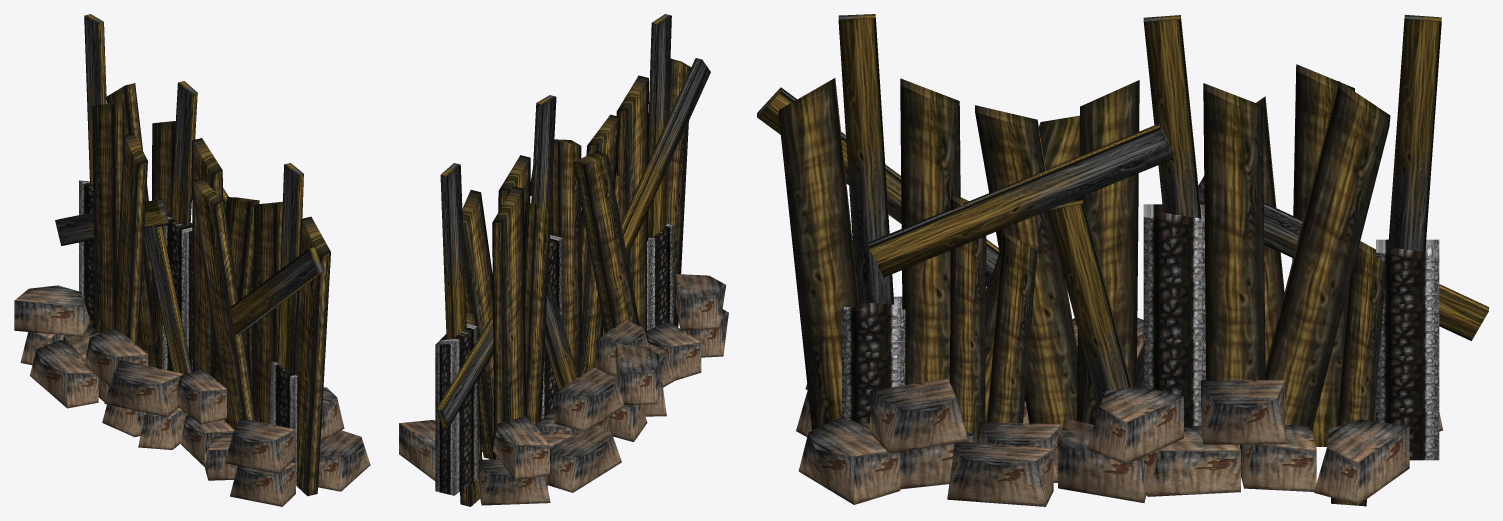
File: CB_WOOD_BARACADE02.fbx
The picture shows the model from 3 angles, left to right: view 1: azimuth 30°, elevation 25°; view 2: azimuth 150°, elevation 25°; view 3: azimuth 270°, elevation 25°; orthographic projection. The views are drawn at different scales.
Visible parts, largest first — view 1: CB_WOOD_BARACADE02; view 2: CB_WOOD_BARACADE02; view 3: CB_WOOD_BARACADE02.
Part boxes in pixels (left/top/right/bottom): CB_WOOD_BARACADE02: left=14, top=14, right=370, bottom=506; CB_WOOD_BARACADE02: left=399, top=14, right=728, bottom=506; CB_WOOD_BARACADE02: left=757, top=14, right=1488, bottom=506.
Bounding box in the file's own units: 21865 × 41070 × 56301.
Materials: 4 (4 with a texture image).
